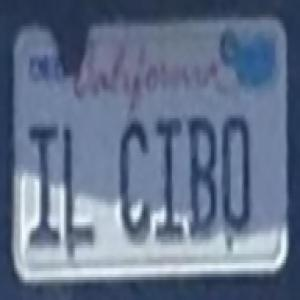Plate: (4, 7, 296, 290)
